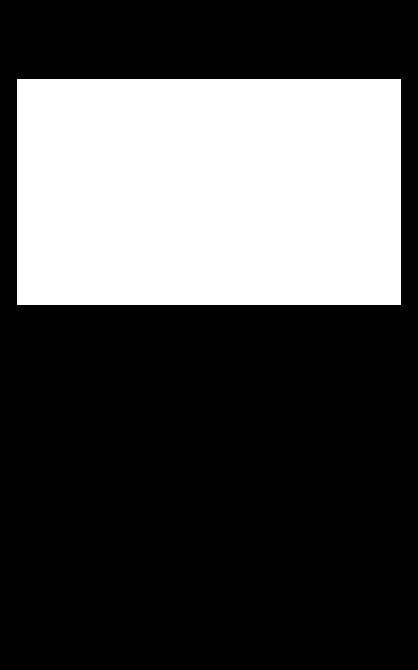table: (17, 79, 400, 304)
